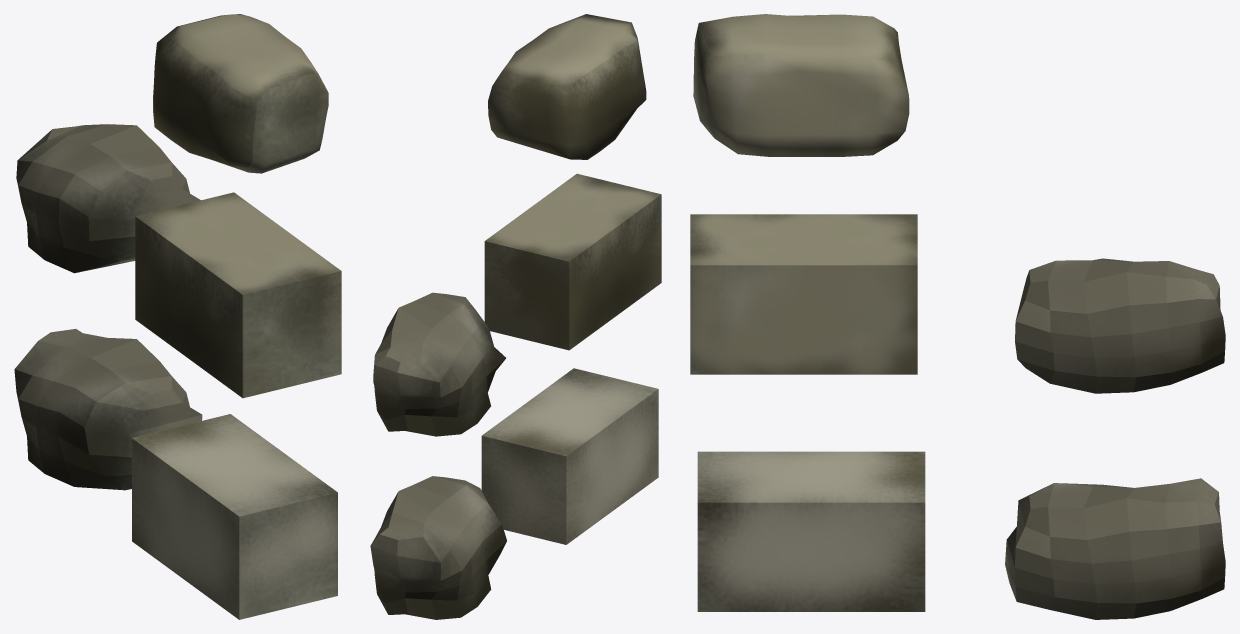
Rendered from Rock from the buidlings.fbx.
3 renders of one model, left to right at view 1: azimuth 30°, elevation 25°; view 2: azimuth 150°, elevation 25°; view 3: azimuth 270°, elevation 25°, orthographic. The views are drawn at different scales.
Visible parts, largest first — view 1: Cube.154, Cube.016, Cube.086, Cube.155, Cube.088; view 2: Cube.154, Cube.016, Cube.086, Cube.155, Cube.088; view 3: Cube.016, Cube.154, Cube.086, Cube.155, Cube.088.
Boxes of the visible parts, x1,y1,x2,y2 form: Cube.154: (135, 192, 341, 398); Cube.016: (132, 414, 337, 619); Cube.086: (153, 14, 328, 173); Cube.155: (14, 329, 202, 490); Cube.088: (16, 124, 200, 273); Cube.154: (484, 173, 661, 350); Cube.016: (481, 368, 658, 544); Cube.086: (488, 14, 646, 159); Cube.155: (370, 476, 506, 619); Cube.088: (373, 292, 505, 436); Cube.016: (697, 451, 925, 611); Cube.154: (690, 214, 917, 374); Cube.086: (693, 14, 909, 156); Cube.155: (1005, 478, 1225, 619); Cube.088: (1015, 258, 1225, 393).
Bounding box in the file's own units: 7.93 × 33.21 × 28.51.
